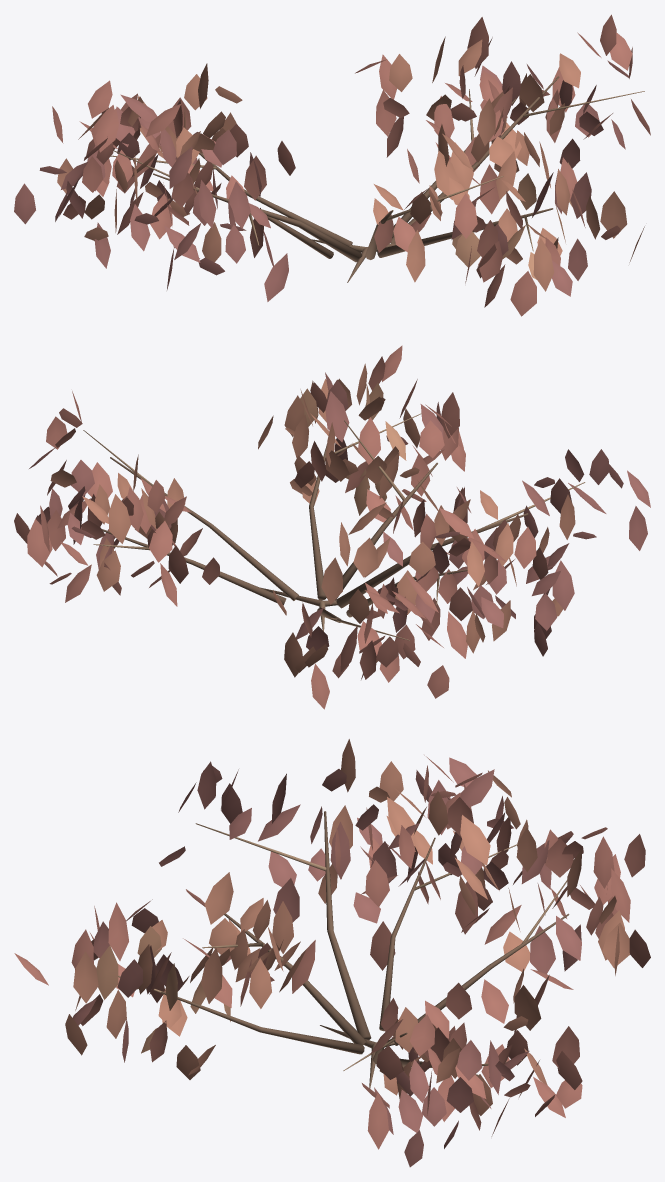
File: bush_3d_04_red.glb
The picture shows the model from 3 angles, top to bottom: view 1: azimuth 30°, elevation 25°; view 2: azimuth 150°, elevation 25°; view 3: azimuth 270°, elevation 25°; orthographic projection. The views are drawn at different scales.
Parts seen in each view (by area): view 1: bush_3d_04_red_foliage, bush_3d_04_red_wood; view 2: bush_3d_04_red_foliage, bush_3d_04_red_wood; view 3: bush_3d_04_red_foliage, bush_3d_04_red_wood.
Part boxes in pixels (x1,y1,x2,y2): bush_3d_04_red_foliage: (14,14,650,316); bush_3d_04_red_wood: (110,76,644,282); bush_3d_04_red_foliage: (14,345,650,709); bush_3d_04_red_wood: (83,413,585,640); bush_3d_04_red_foliage: (14,739,650,1167); bush_3d_04_red_wood: (96,811,569,1088).
Bounding box in the file's own units: 2.79 × 0.806 × 2.45.
